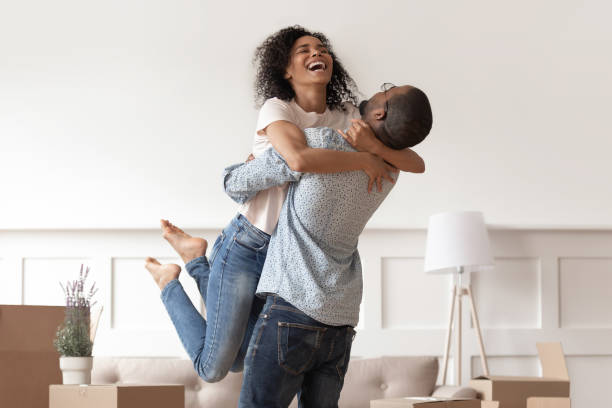without mask: (354, 82, 437, 145), (286, 31, 349, 94)
